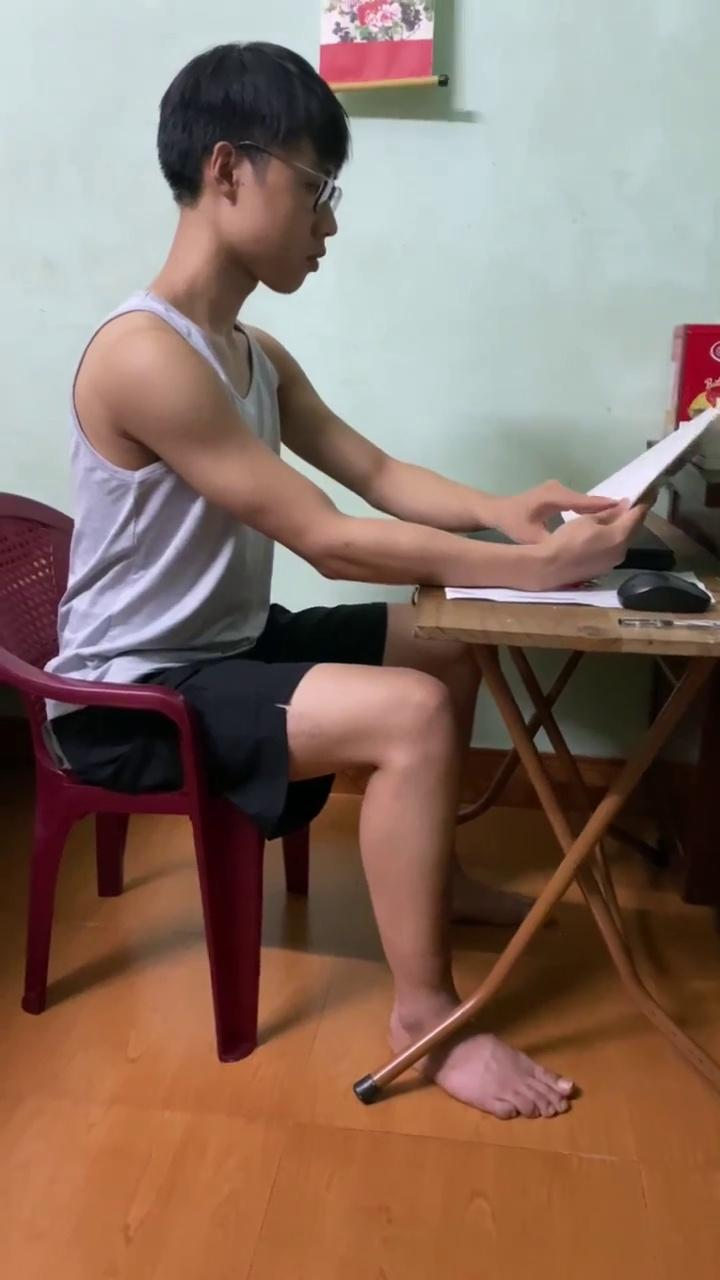GoodPosture: (49, 41, 647, 1052)
